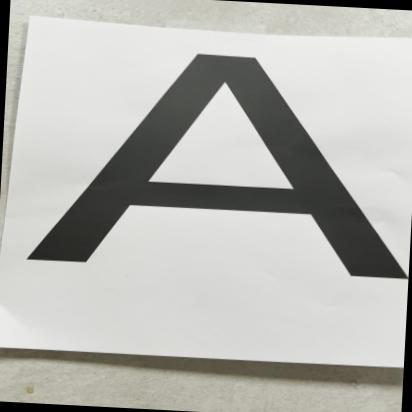seat: (40, 37, 412, 325)
